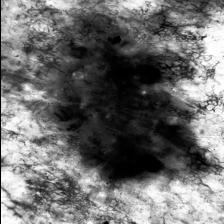Potentially Malignant Skin Tumors: (76, 36, 178, 182)
